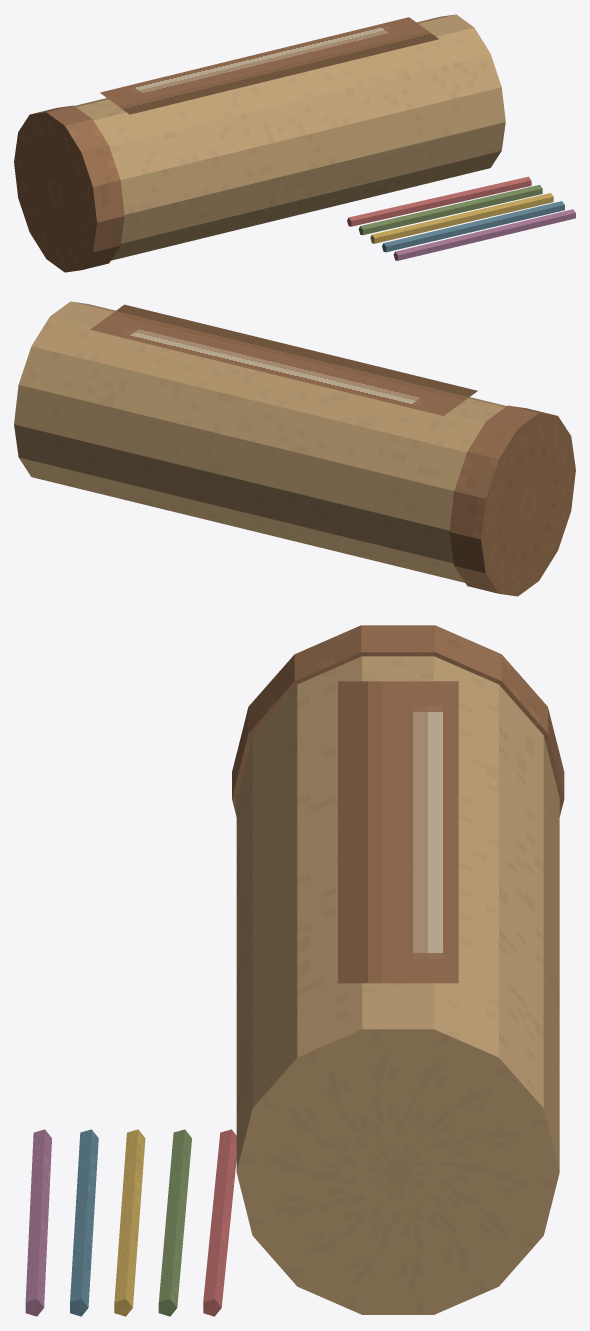
The model's file is jackstraws.glb.
3 renders of one model, top to bottom at view 1: azimuth 30°, elevation 25°; view 2: azimuth 150°, elevation 25°; view 3: azimuth 270°, elevation 25°, orthographic. The views are drawn at different scales.
Parts seen in each view (by area): view 1: block_printed cardboard tube, block_tube cap, block_colored pick-up stick 0 (×5), block_tube wordmark; view 2: block_printed cardboard tube, block_tube cap, block_tube wordmark; view 3: block_printed cardboard tube, block_tube wordmark, block_colored pick-up stick 0 (×5), block_tube cap.
Part boxes in pixels (x1,y1,x2,y2): block_printed cardboard tube: [75, 14, 505, 260]; block_tube cap: [14, 105, 124, 272]; block_colored pick-up stick 0 (×5): [347, 176, 575, 260]; block_tube wordmark: [100, 17, 438, 114]; block_printed cardboard tube: [14, 301, 506, 582]; block_tube cap: [449, 405, 575, 596]; block_tube wordmark: [90, 304, 477, 415]; block_printed cardboard tube: [236, 656, 559, 1314]; block_tube wordmark: [338, 681, 458, 983]; block_colored pick-up stick 0 (×5): [25, 1129, 236, 1316]; block_tube cap: [232, 625, 564, 816].
Size of the model in its own units: 0.1772 by 0.0585 by 0.0967.
1 material, 1 textured.
